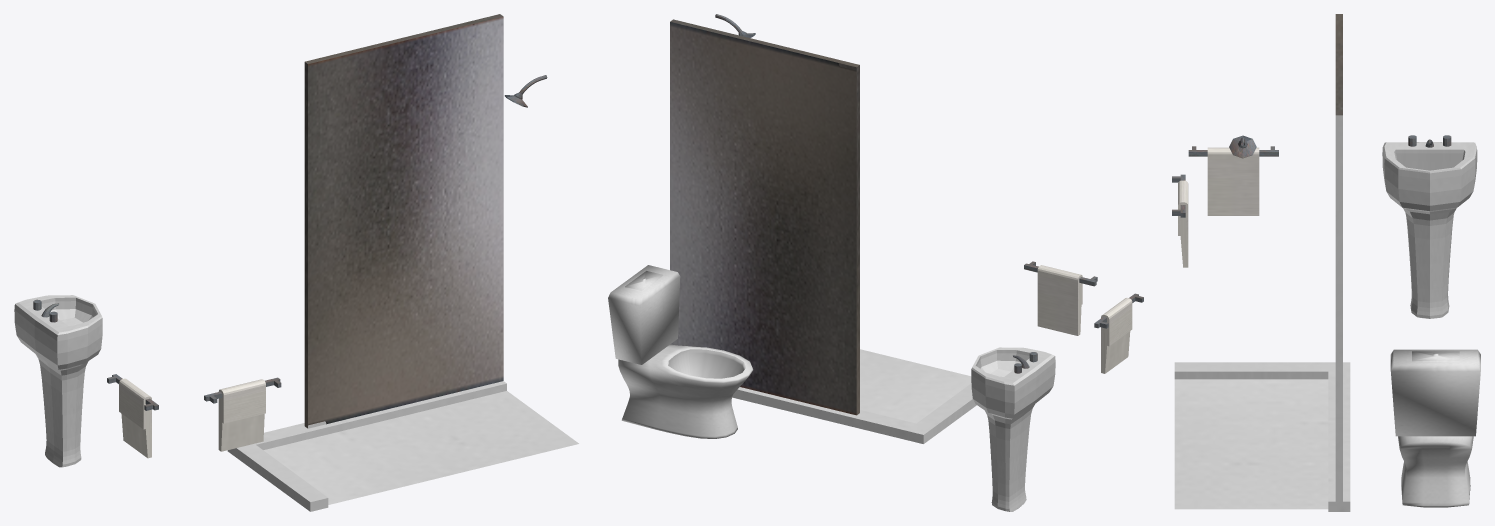
The model's file is Bathroom1.fbx.
3 renders of one model, left to right at view 1: azimuth 30°, elevation 25°; view 2: azimuth 150°, elevation 25°; view 3: azimuth 270°, elevation 25°, orthographic. The views are drawn at different scales.
Visible parts, largest first — view 1: Circle.004; view 2: Circle.004; view 3: Circle.004.
Boxes of the visible parts, <box> form: Circle.004: <box>14,14,578,511</box>; Circle.004: <box>608,14,1143,511</box>; Circle.004: <box>1172,14,1480,511</box>.
Size of the model in its own units: 237 by 203 by 141.
